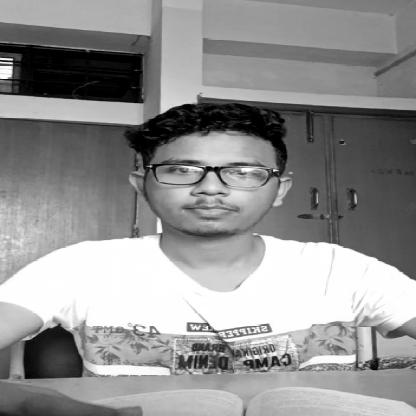Normal: (144, 96, 301, 236)
